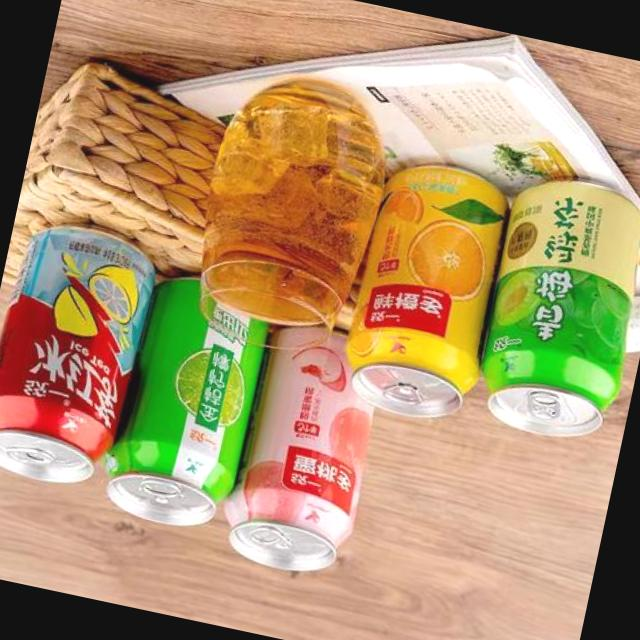can: (331, 148, 518, 430), (95, 264, 280, 542), (466, 162, 640, 452), (215, 313, 398, 586), (0, 208, 165, 498)
